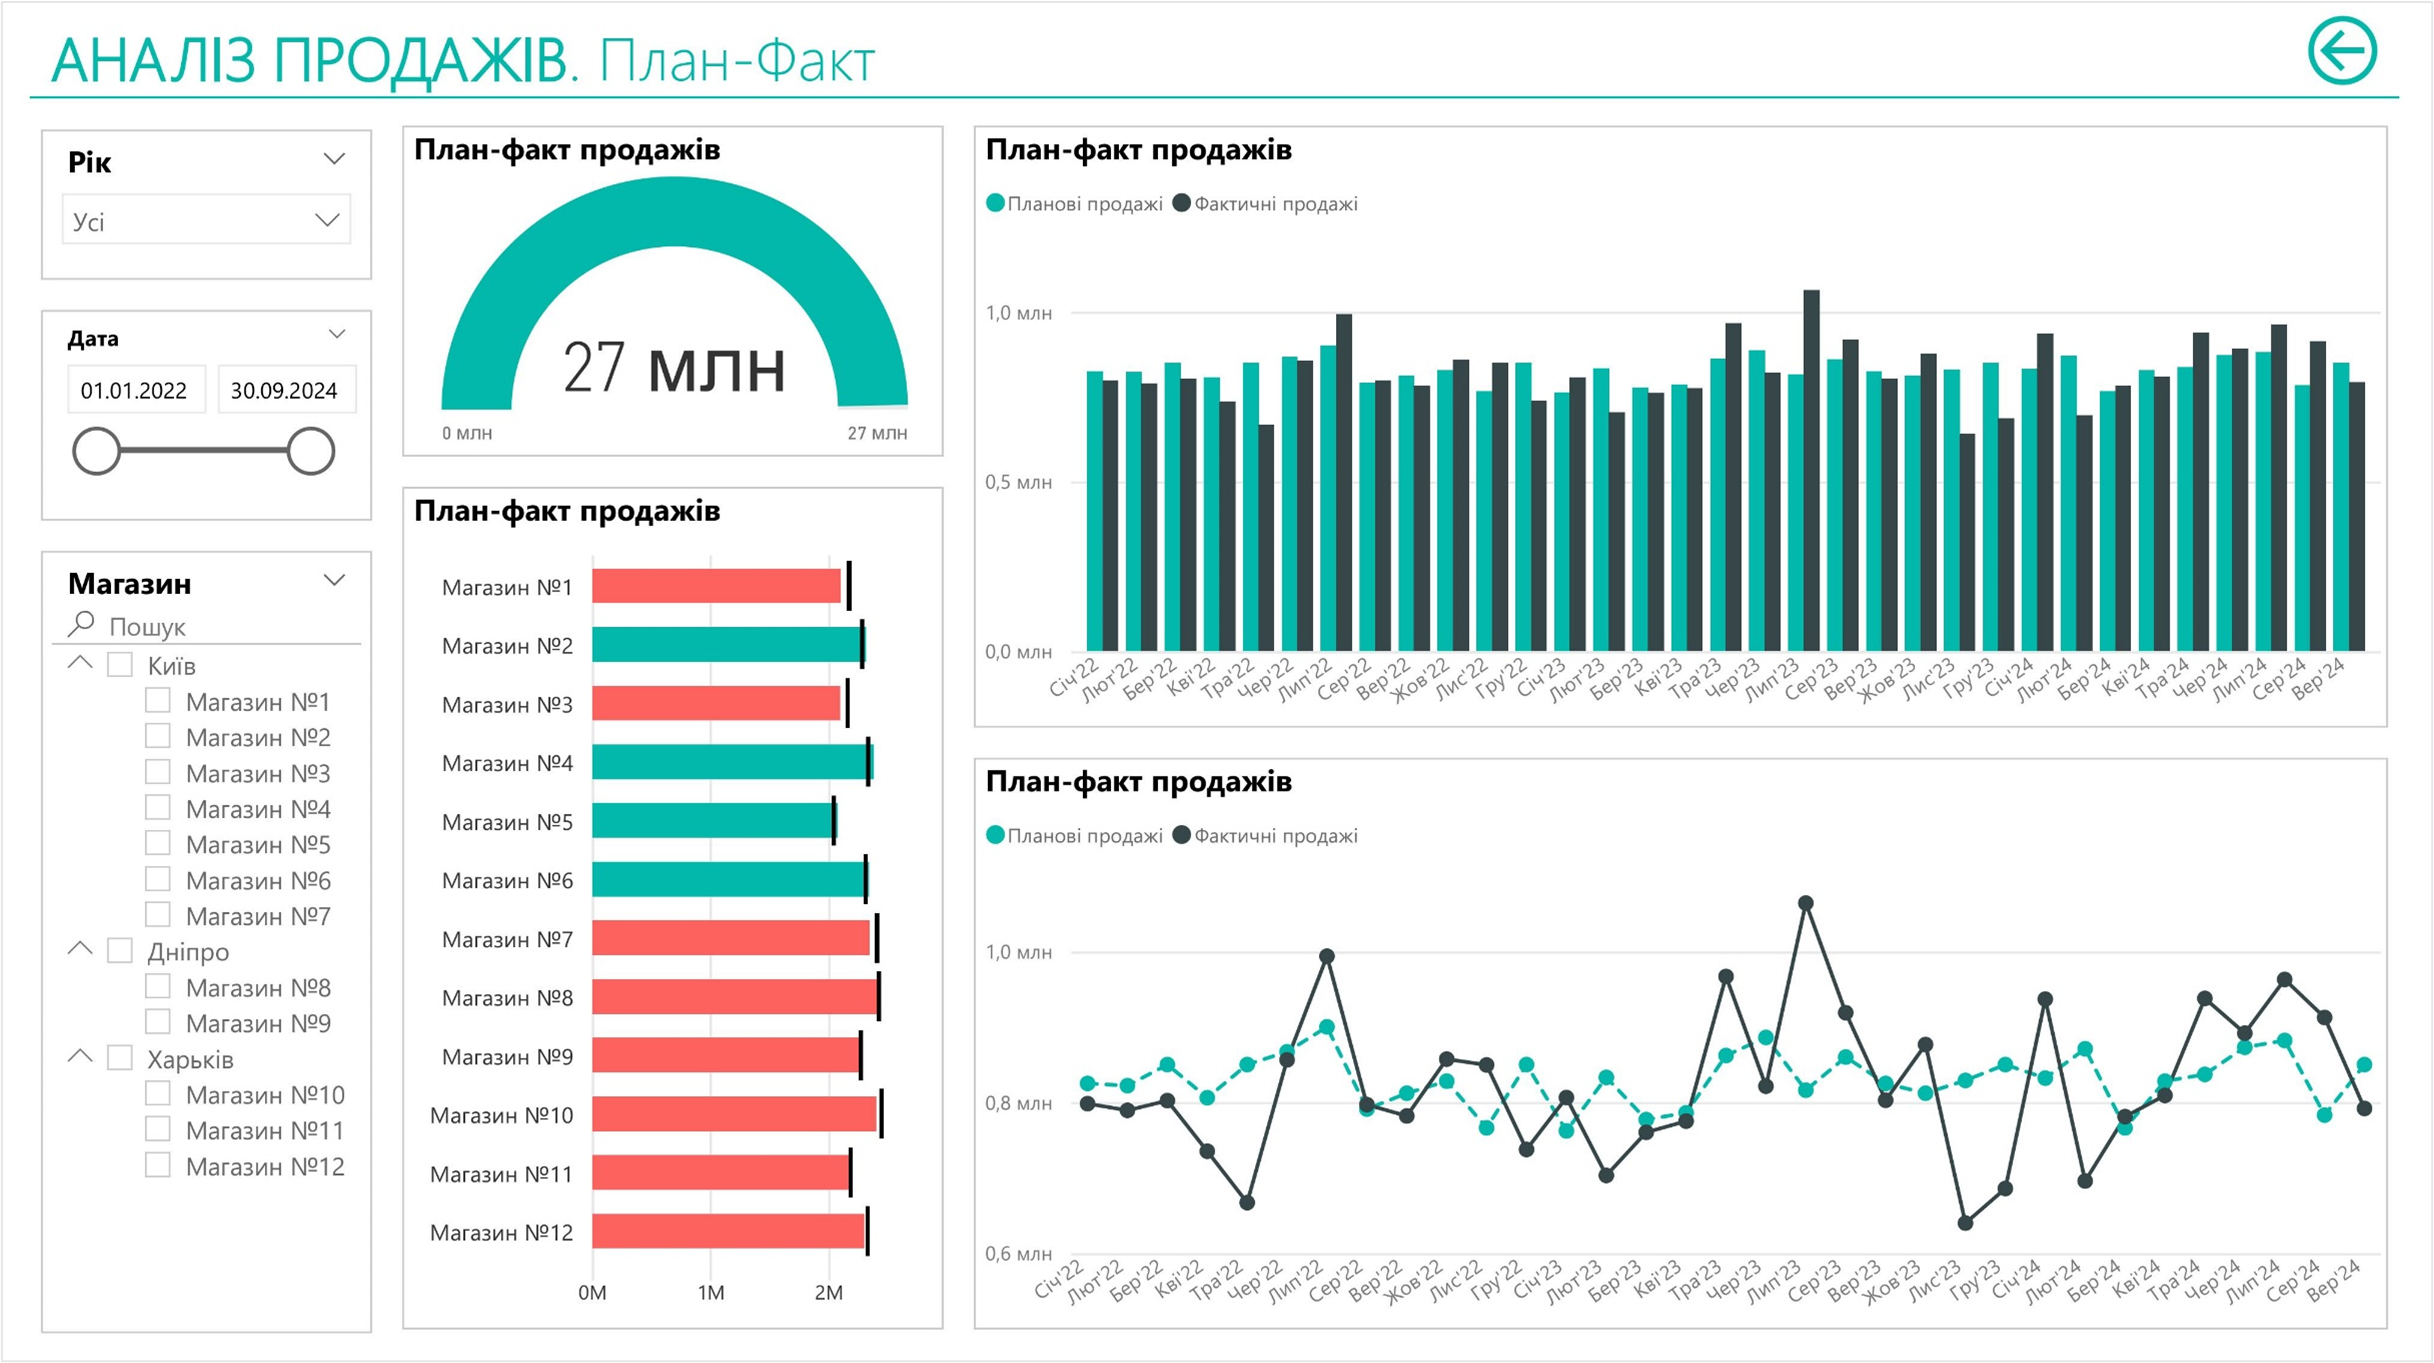

The page's visual inventory and layout, read from the dashboard file:
{"tool":"powerbi","page":{"name":"Аналіз продажів. План-Факт","canvas":[1280,720],"ordinal":2},"visuals":[{"type":"slicer","fields":{"Values":["Календар.Дата"]},"box":[15.7,162,176,112],"z":0},{"type":"slicer","fields":{"Values":["довМагазини.Місто","довМагазини.Магазин"]},"box":[15.7,290,176,416],"z":1000},{"type":"slicer","fields":{"Values":["Календар.Рік"]},"box":[15.7,66,176,80],"z":2000},{"type":"basicShape","box":[0,33,1280,32],"z":3000},{"type":"textbox","box":[16,0,512,64],"z":4000},{"type":"gauge","title":"План-факт продажів","fields":{"Y":["Sum(рПродажіФакт.ПродажіФакт)"],"MaxValue":["Sum(ПланПродажів.Сума План)"]},"box":[208,64,288,176],"z":5000},{"type":"clusteredColumnChart","title":"План-факт продажів","fields":{"Y":["Sum(ПланПродажів.Сума План)","Sum(рПродажіФакт.ПродажіФакт)"],"Category":["Календар.Місяць"]},"box":[512,64,752,320],"z":6000},{"type":"PBI_CV_9272D058_BEA0_476A_B090_A712545F92FA","title":"План-факт продажів","fields":{"Value":["Sum(рПродажіФакт.ПродажіФакт)"],"targets":["Sum(ПланПродажів.Сума План)"],"Category":["довМагазини.Магазин"]},"box":[208,256,288,448],"z":7000},{"type":"lineChart","title":"План-факт продажів","fields":{"Category":["Календар.Місяць"],"Y":["Sum(ПланПродажів.Сума План)","Sum(рПродажіФакт.ПродажіФакт)"]},"box":[512,400,752,304],"z":8000},{"type":"actionButton","box":[1216,0,48,48],"z":9000}]}

Visuals, with their boxes in screenshot pixels (x1, y1, x2, y2), scaled from the page's 1280x720 canvas onto the 2434x1363 screenshot:
slicer - Календар.Дата: x1=30, y1=307, x2=365, y2=519
slicer - довМагазини.Місто x довМагазини.Магазин: x1=30, y1=549, x2=365, y2=1336
slicer - Календар.Рік: x1=30, y1=125, x2=365, y2=276
basicShape: x1=0, y1=62, x2=2433, y2=123
textbox: x1=30, y1=0, x2=1004, y2=121
"План-факт продажів" gauge: x1=396, y1=121, x2=943, y2=454
"План-факт продажів" clusteredColumnChart: x1=974, y1=121, x2=2404, y2=727
"План-факт продажів" PBI_CV_9272D058_BEA0_476A_B090_A712545F92FA: x1=396, y1=485, x2=943, y2=1333
"План-факт продажів" lineChart: x1=974, y1=757, x2=2404, y2=1333
actionButton: x1=2312, y1=0, x2=2404, y2=91
